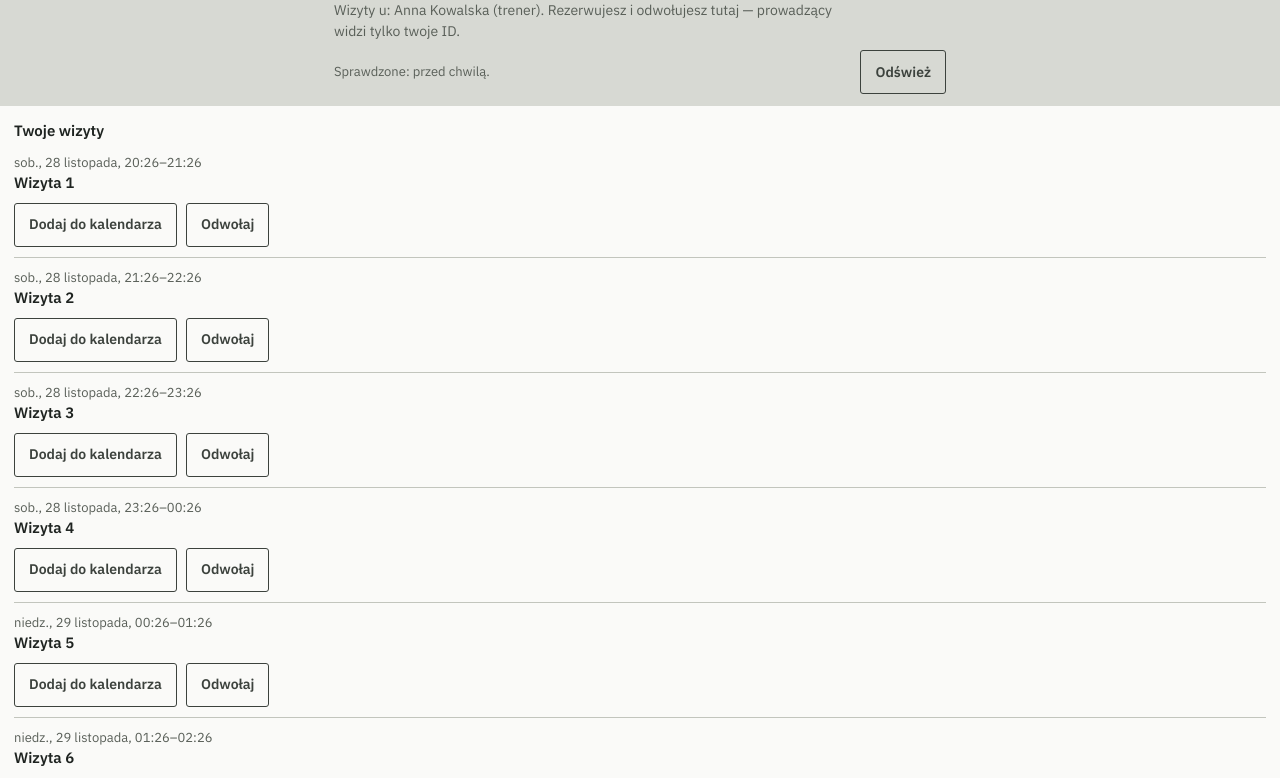
Test: wizyty › dziesięć zaplanowanych: podpowiedź i bez rezerwacji; odmowa serwera too_many po polsku
Click the button "Odśwież": (903, 72) [860,50,946,94]
(page scrolled)
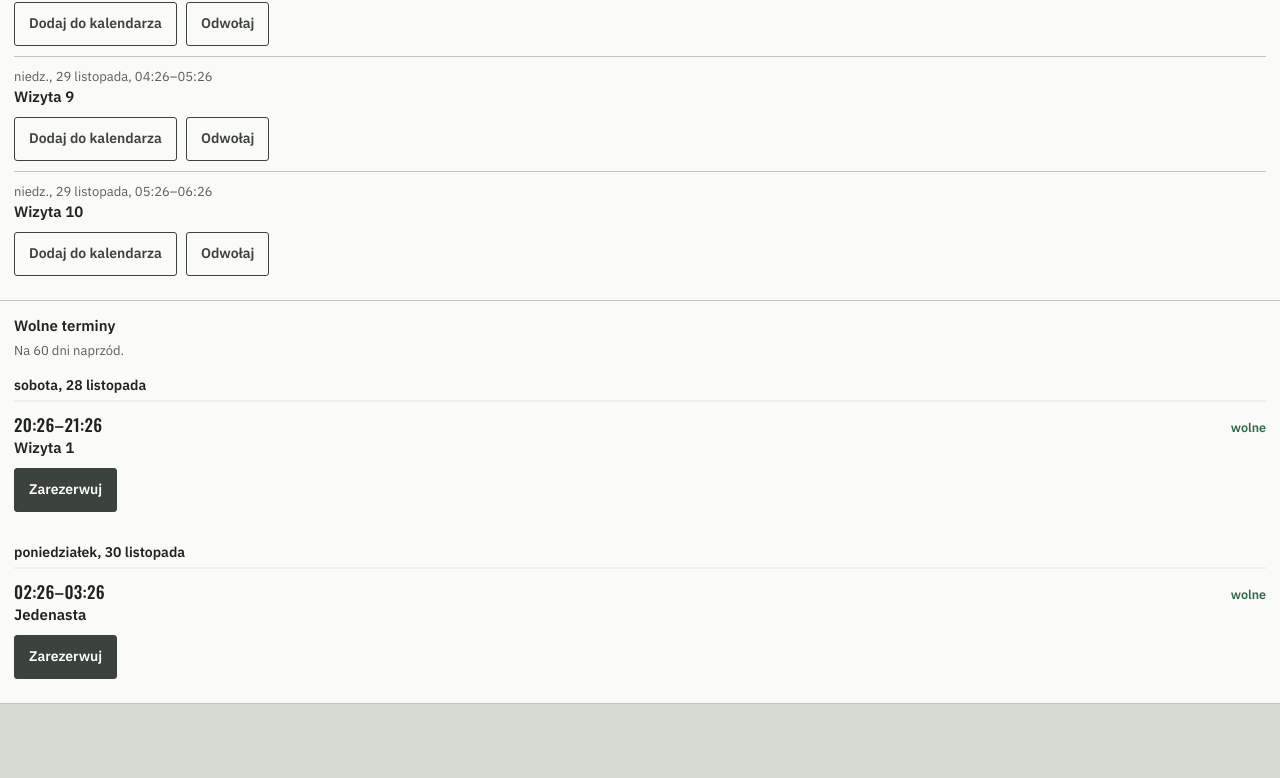
Expected: the button "Zarezerwuj" below "Jedenasta" is enabled
Click the button "Zarezerwuj" below "Jedenasta": (66, 656) [14,634,117,678]
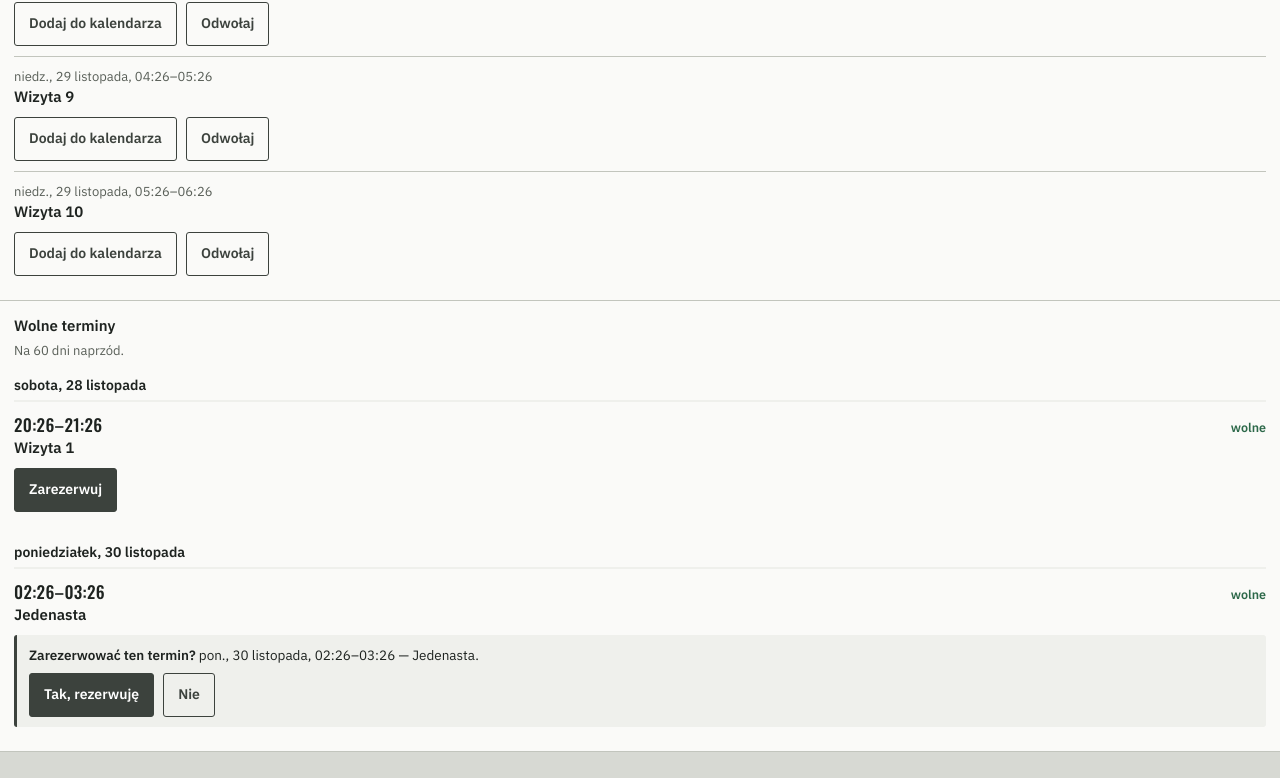
Click the button "Tak, rezerwuję": (92, 695) [29,673,154,717]
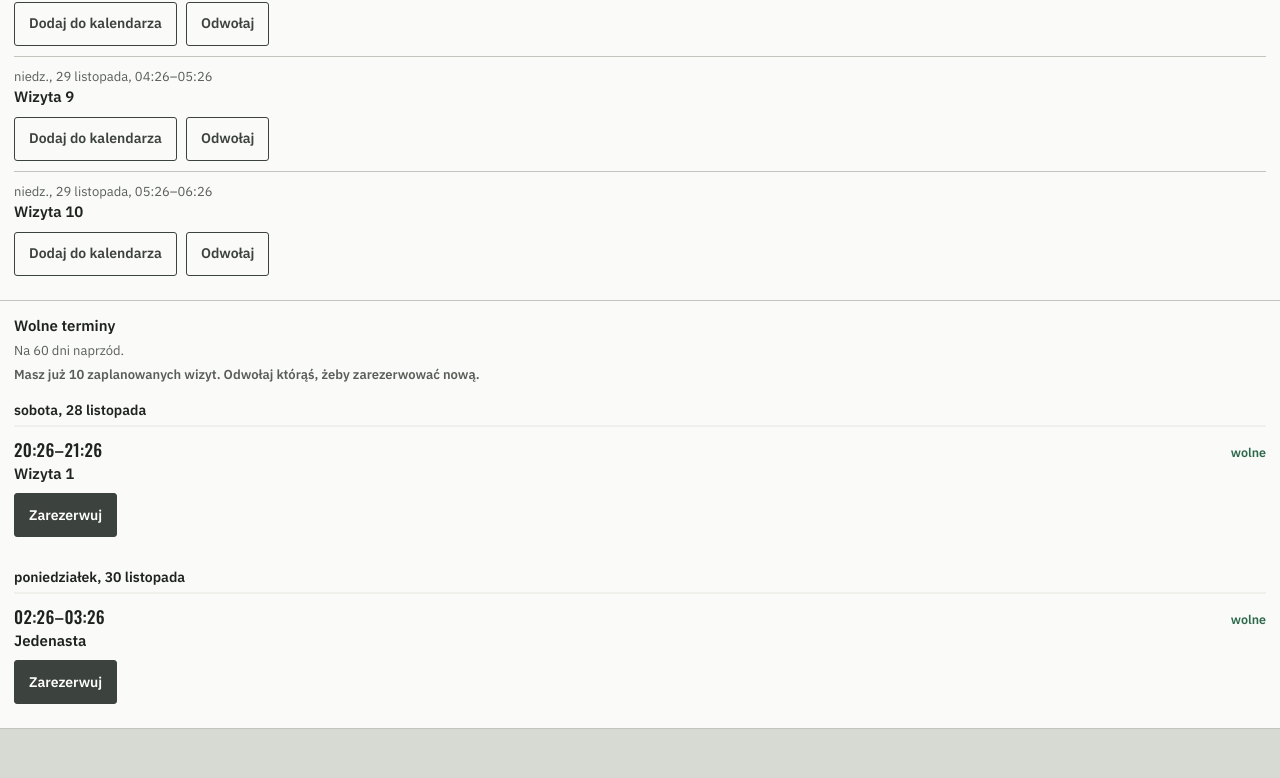
Expected: the message reads "Masz już 10 zaplanowanych wizyt. Odwołaj którąś, żeby zarezerwować nową.", [14,366,480,382]
